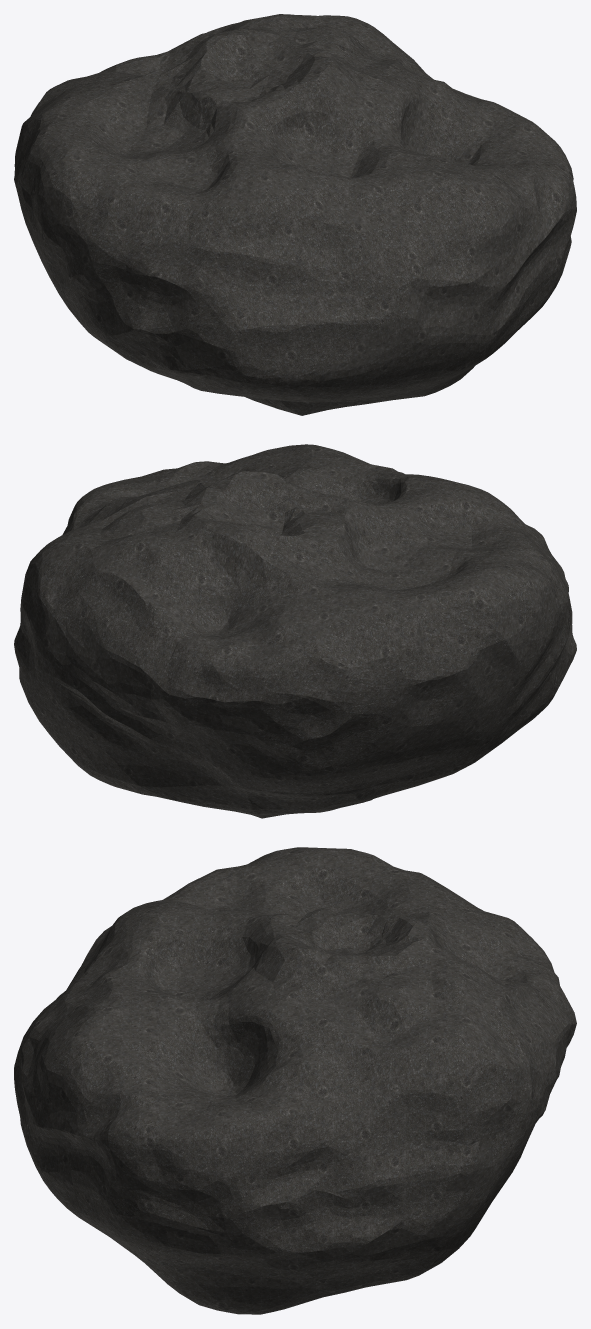
Rendered from asteroid-body-draco-transformed.glb.
The picture shows the model from 3 angles, top to bottom: view 1: azimuth 30°, elevation 25°; view 2: azimuth 150°, elevation 25°; view 3: azimuth 270°, elevation 25°; orthographic projection. The views are drawn at different scales.
Visible parts, largest first — view 1: Asterioid Body; view 2: Asterioid Body; view 3: Asterioid Body.
Part boxes in pixels (x1,y1,x2,y2): Asterioid Body: (14, 14, 576, 415); Asterioid Body: (14, 444, 576, 818); Asterioid Body: (14, 847, 576, 1314).
Size of the model in its own units: 48.51 by 29.95 by 46.63.
Materials: 1 (1 with a texture image).
